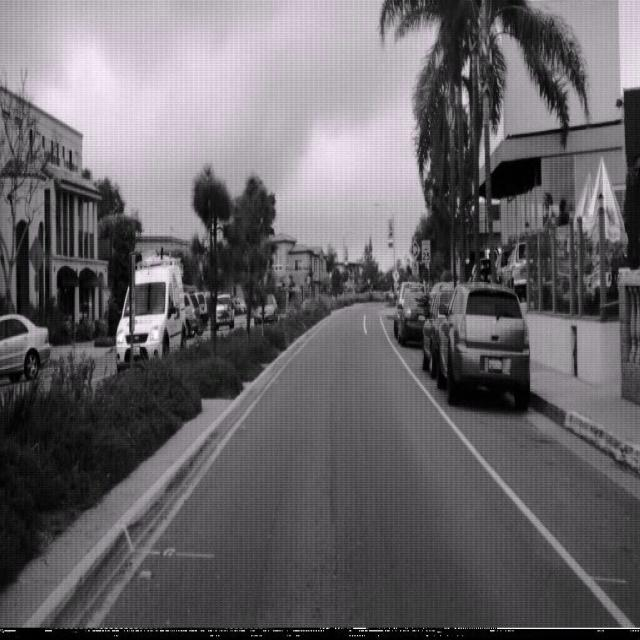speedLimit25: (421, 238, 431, 263)
